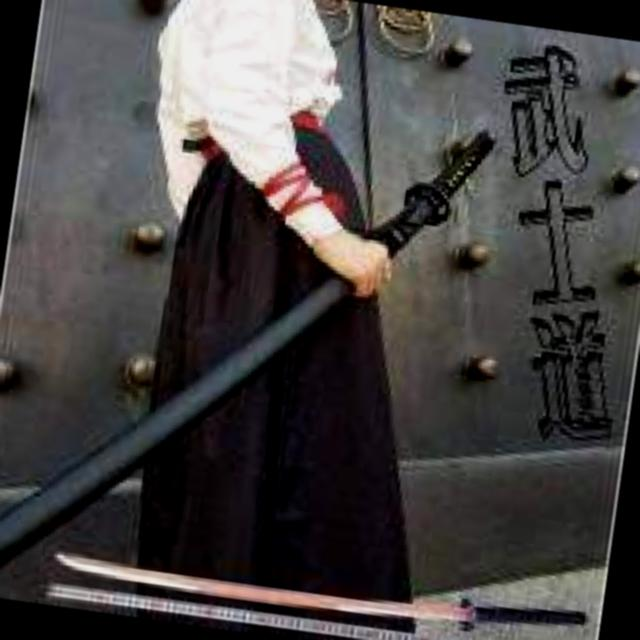long sword: (0, 67, 503, 629)
